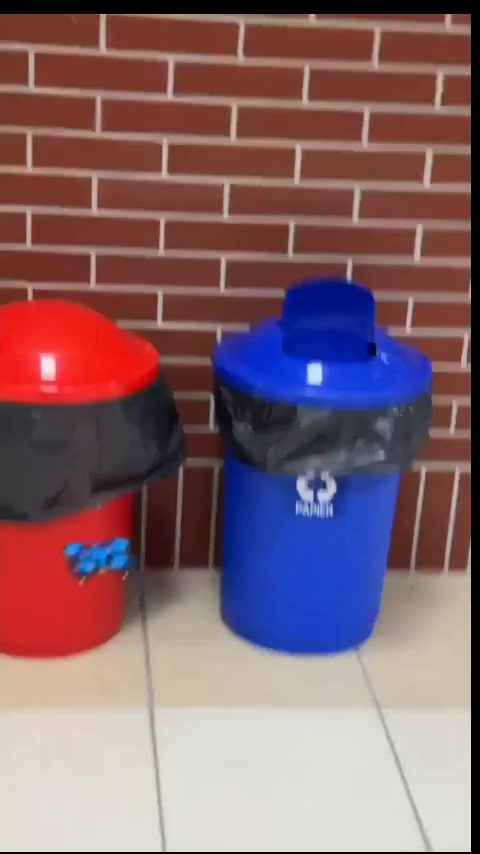drone: (66, 537, 139, 585)
